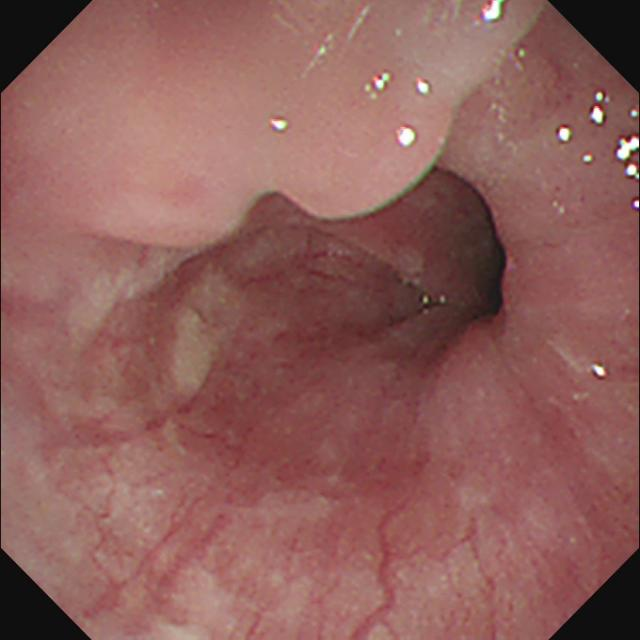A: (283, 153, 437, 229), (117, 173, 258, 253), (156, 416, 265, 474)
E: (467, 194, 516, 319)
J: (169, 266, 265, 410)
U: (615, 135, 640, 181), (395, 125, 419, 148), (482, 2, 504, 25)
